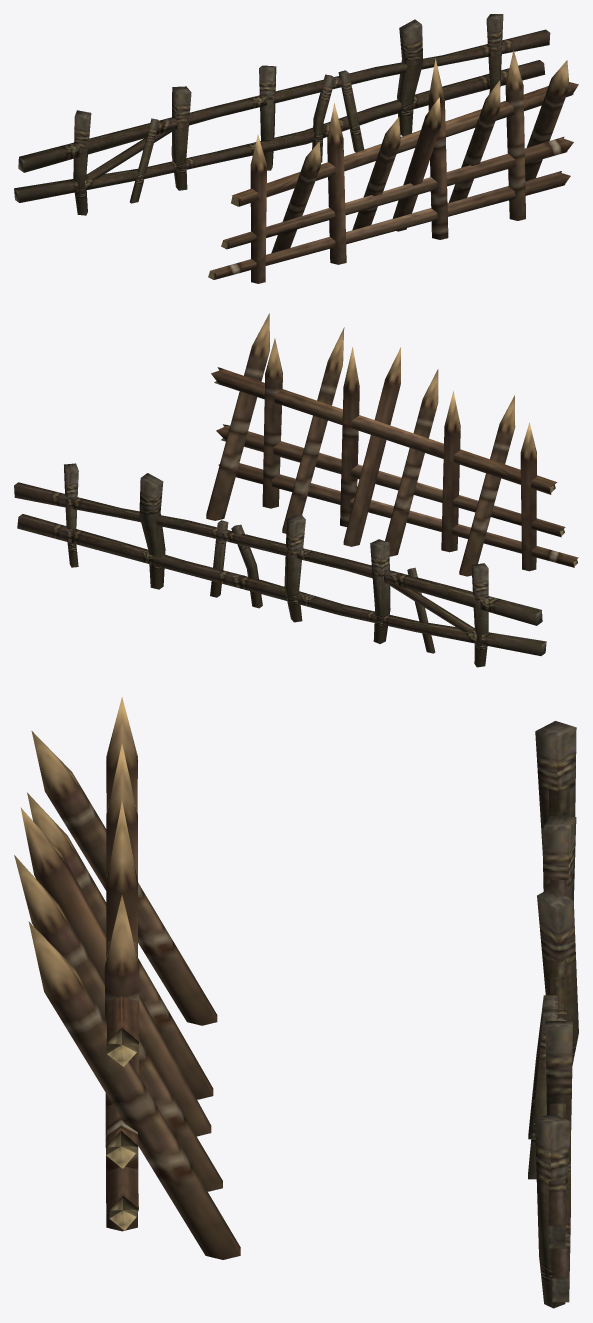
Rendered from s7_fight_zhanlanb.FBX.
The picture shows the model from 3 angles, top to bottom: view 1: azimuth 30°, elevation 25°; view 2: azimuth 150°, elevation 25°; view 3: azimuth 270°, elevation 25°; orthographic projection. The views are drawn at different scales.
Parts seen in each view (by area): view 1: s7_fight_zhalan_b, s7_fight_zhalan_a; view 2: s7_fight_zhalan_b, s7_fight_zhalan_a; view 3: s7_fight_zhalan_b, s7_fight_zhalan_a.
Part boxes in pixels (<box>): s7_fight_zhalan_b: <box>208,50,578,283</box>; s7_fight_zhalan_a: <box>14,14,550,215</box>; s7_fight_zhalan_b: <box>206,313,578,576</box>; s7_fight_zhalan_a: <box>14,463,546,667</box>; s7_fight_zhalan_b: <box>14,697,240,1259</box>; s7_fight_zhalan_a: <box>528,721,578,1308</box>.
Bounding box in the file's own units: 6.75 × 2.18 × 3.22.
